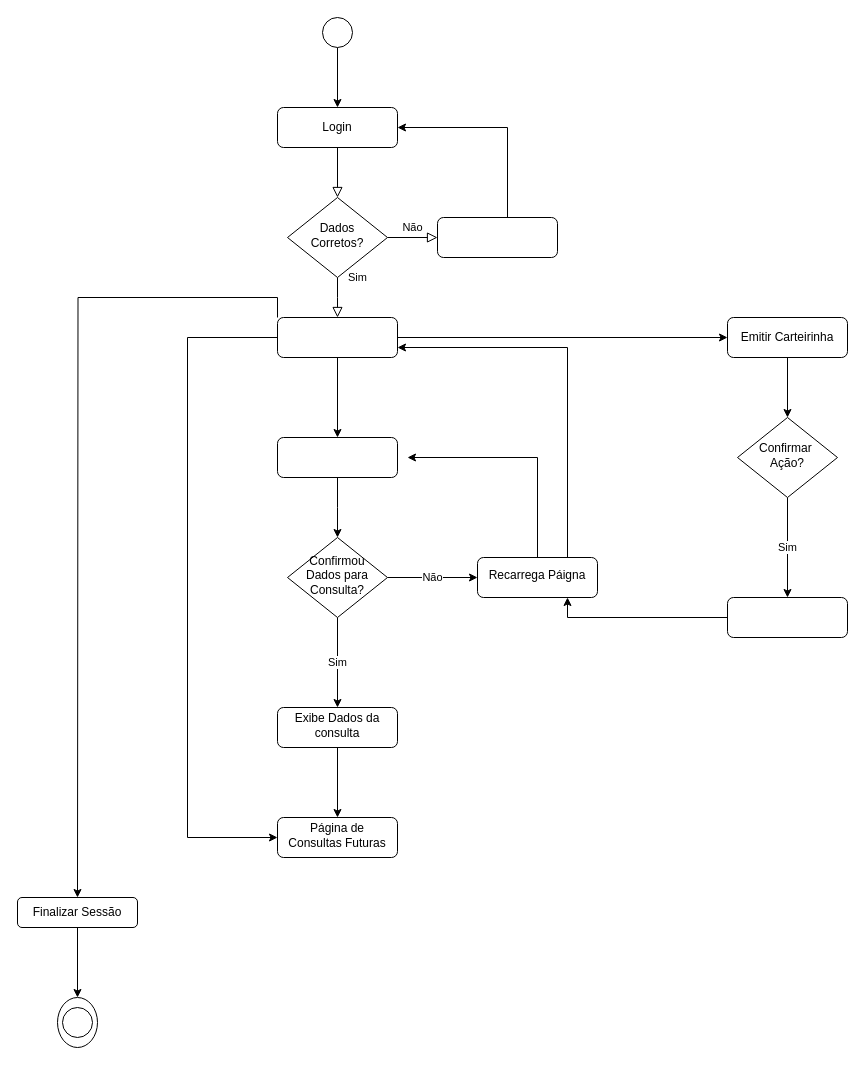
Image size: 865x1065. Some labels were removed from this diagram. Each missing label, with the centre of its shape:
"Emite a Carteirinha" belongs at (787,617).
"Mensagem de Erro" belongs at (497,237).
"Página de Agendamentos" belongs at (337,457).
"Página Inicial" belongs at (337,337).
